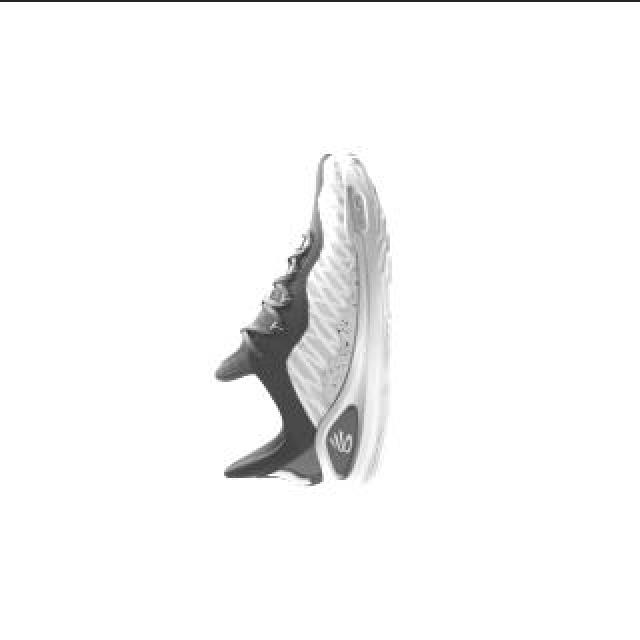shoe: (214, 146, 394, 492)
